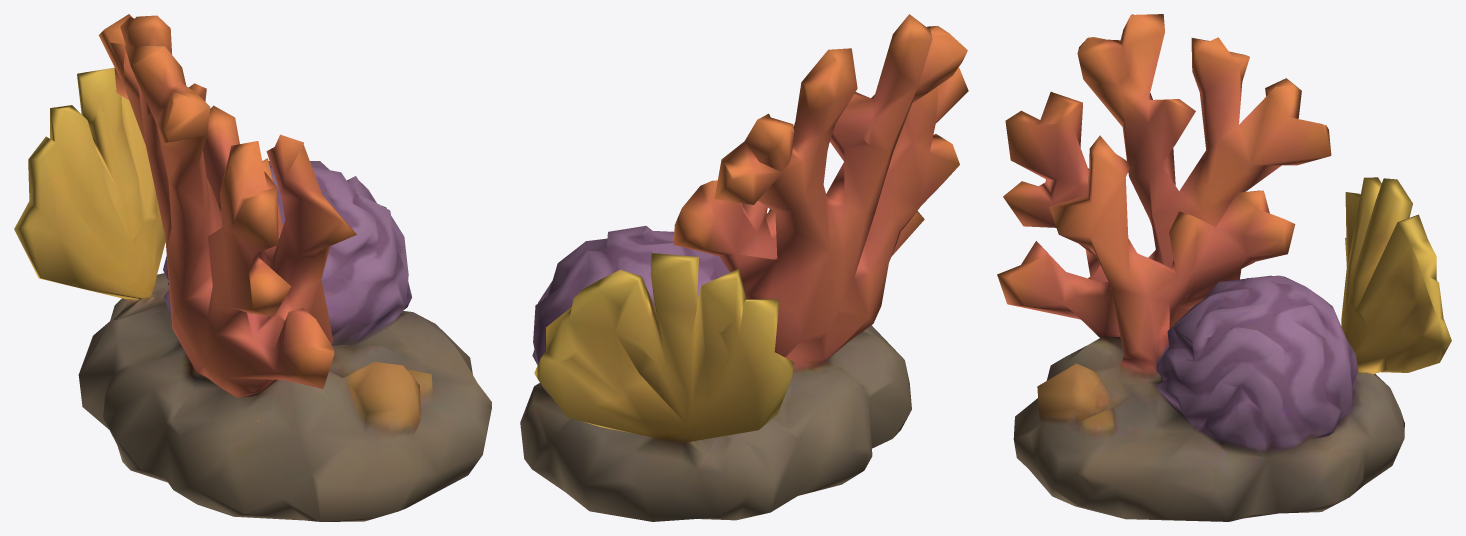
Rendered from coral.glb.
3 renders of one model, left to right at view 1: azimuth 30°, elevation 25°; view 2: azimuth 150°, elevation 25°; view 3: azimuth 270°, elevation 25°, orthographic. The views are drawn at different scales.
Visible parts, largest first — view 1: tripo_node_3356b100-cf31-4c3e-8215-9886dbf18ba4; view 2: tripo_node_3356b100-cf31-4c3e-8215-9886dbf18ba4; view 3: tripo_node_3356b100-cf31-4c3e-8215-9886dbf18ba4.
Boxes of the visible parts, x1=… form: tripo_node_3356b100-cf31-4c3e-8215-9886dbf18ba4: x1=14, y1=14, x2=491, y2=521; tripo_node_3356b100-cf31-4c3e-8215-9886dbf18ba4: x1=520, y1=14, x2=968, y2=521; tripo_node_3356b100-cf31-4c3e-8215-9886dbf18ba4: x1=997, y1=14, x2=1451, y2=521.
Size of the model in its own units: 0.7678 by 0.9313 by 1.
Materials: 1 (1 with a texture image).
